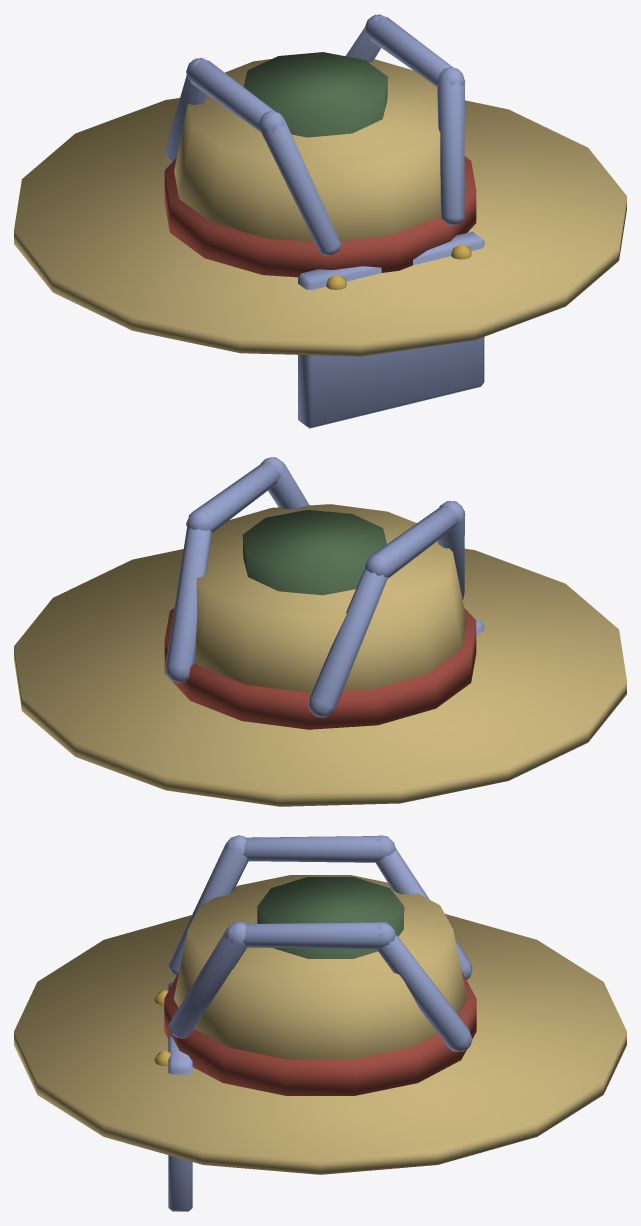
The model's file is outfit.farmer.glb.
3 views of the same model, one above another, from view 1: azimuth 30°, elevation 25°; view 2: azimuth 150°, elevation 25°; view 3: azimuth 270°, elevation 25° (orthographic).
Parts seen in each view (by area): view 1: straw_hat, overalls_bib, boot_l; view 2: straw_hat, overalls_bib, boot_l; view 3: straw_hat, overalls_bib, boot_l.
Part boxes in pixels (left/top/right/bottom): straw_hat: left=14, top=56, right=626, bottom=356; overalls_bib: left=165, top=14, right=484, bottom=428; boot_l: left=243, top=52, right=387, bottom=137; straw_hat: left=14, top=504, right=626, bottom=806; overalls_bib: left=165, top=457, right=484, bottom=717; boot_l: left=242, top=509, right=386, bottom=595; straw_hat: left=14, top=875, right=626, bottom=1174; overalls_bib: left=154, top=835, right=472, bottom=1211; boot_l: left=257, top=877, right=404, bottom=958.
Size of the model in its own units: 0.6 by 0.314 by 0.6.
